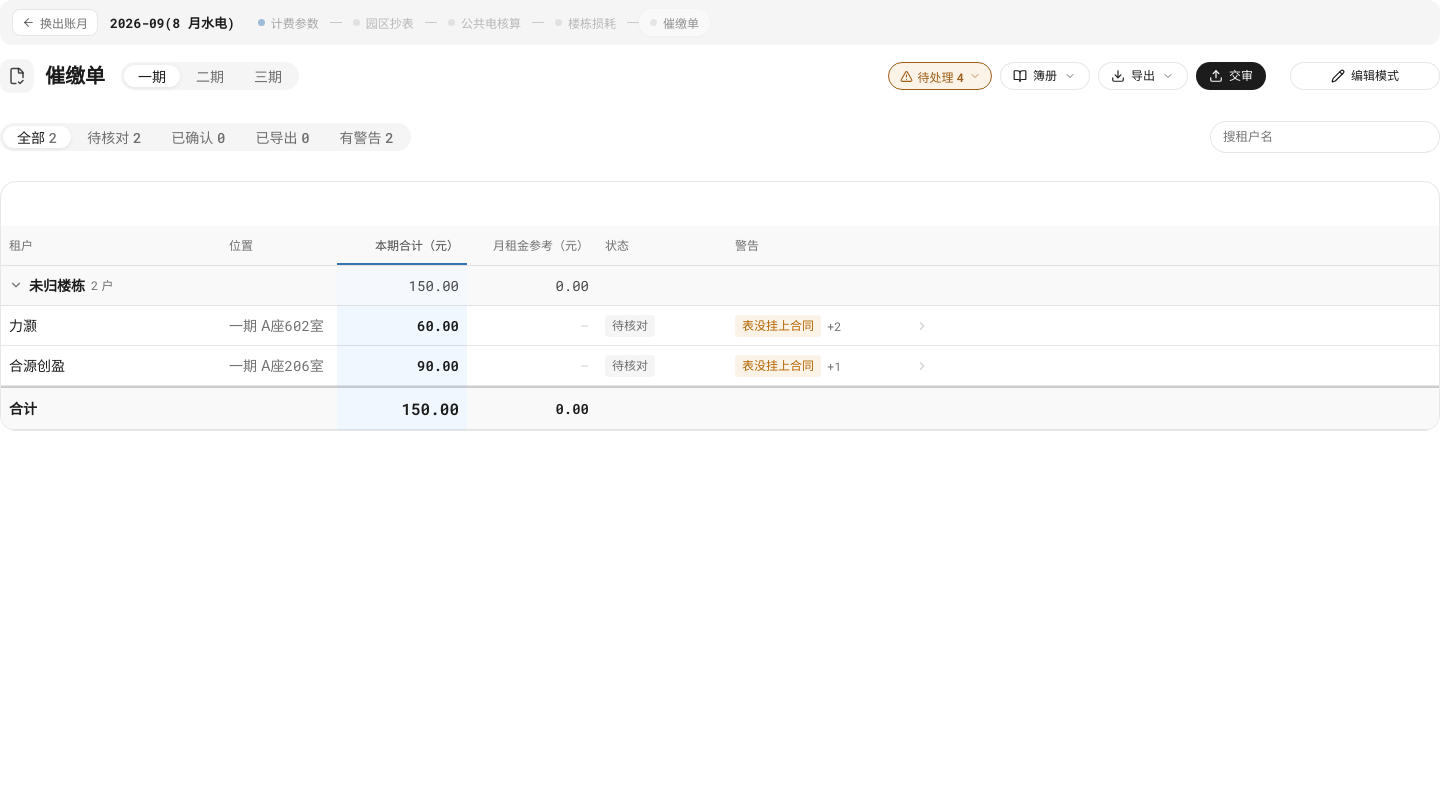
Test: 催缴单抽屉 · 01-C 徽标浮层:明细贴着徽标浮出,正文不动 › 下一户:浮层收起
Click the row "力灏 一期 A座602室 60.00 – 待核对 表没挂上合同 +2": (720,326) x1=1 y1=306 x2=1439 y2=346
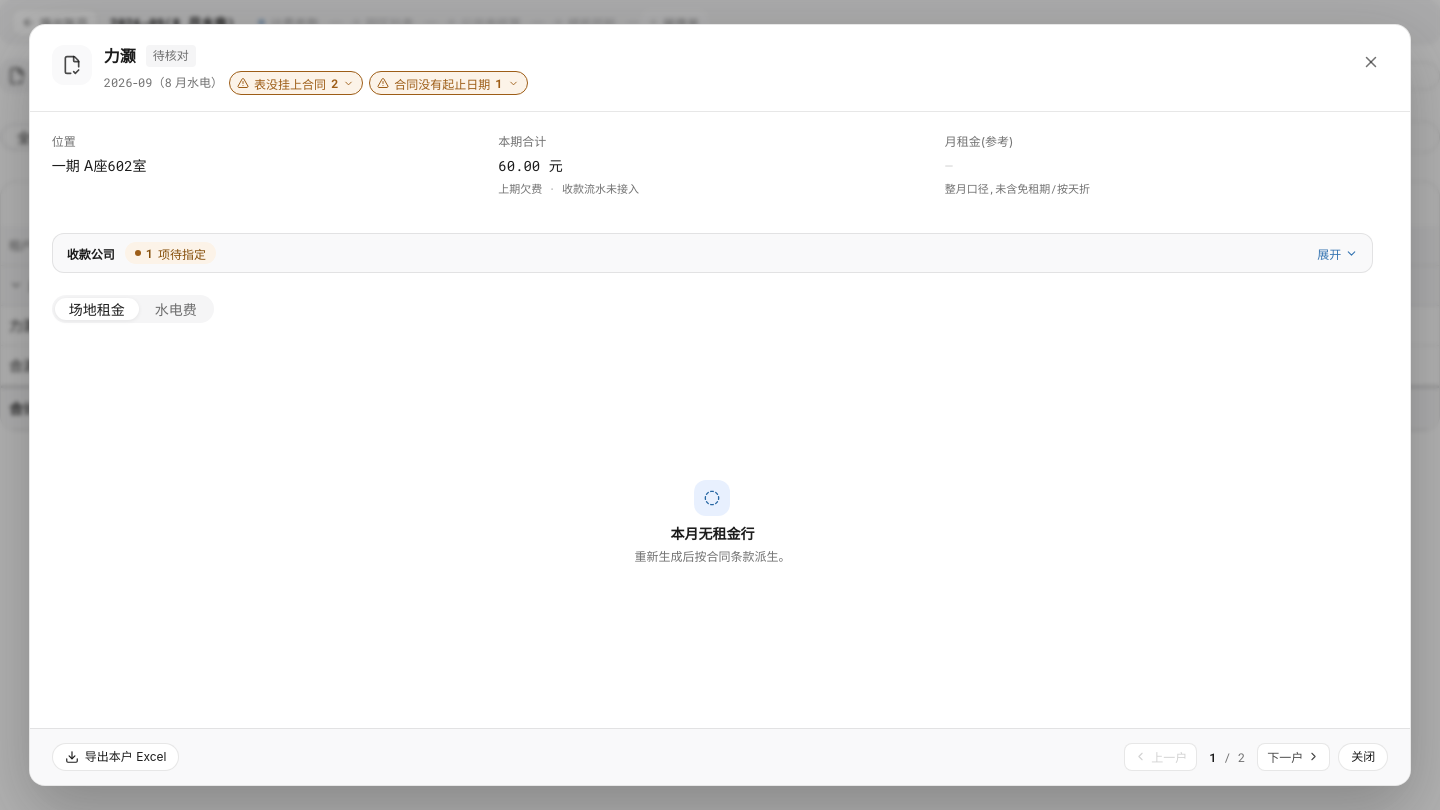
Click the button with class "bn-abadge" showing "表没挂上合同 2": (296,83) x1=229 y1=71 x2=363 y2=95
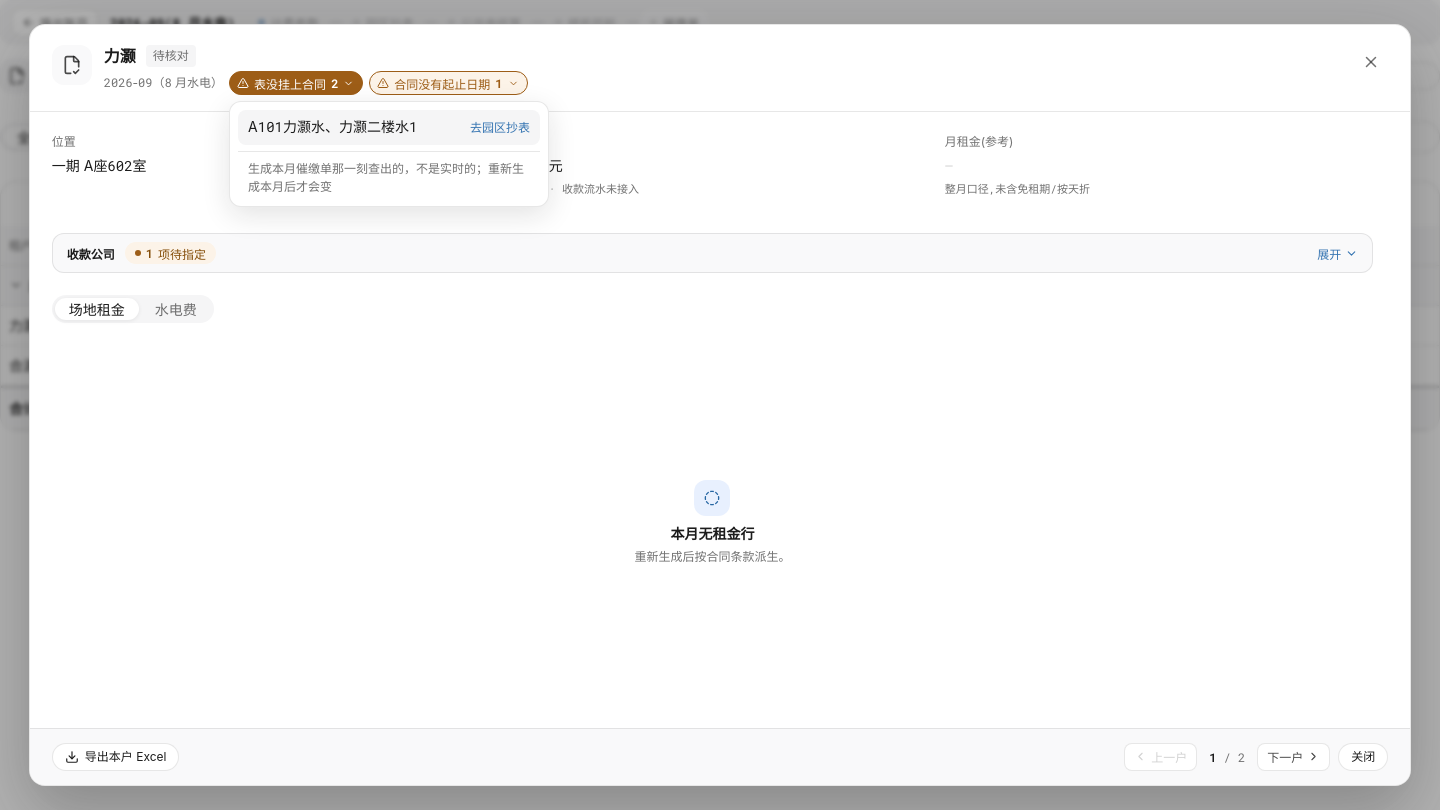
Check: the element with class "bn-apanel" is shown, box x1=238 y1=110 x2=540 y2=198
Click the button "下一户": (1294,757) x1=1257 y1=743 x2=1330 y2=771
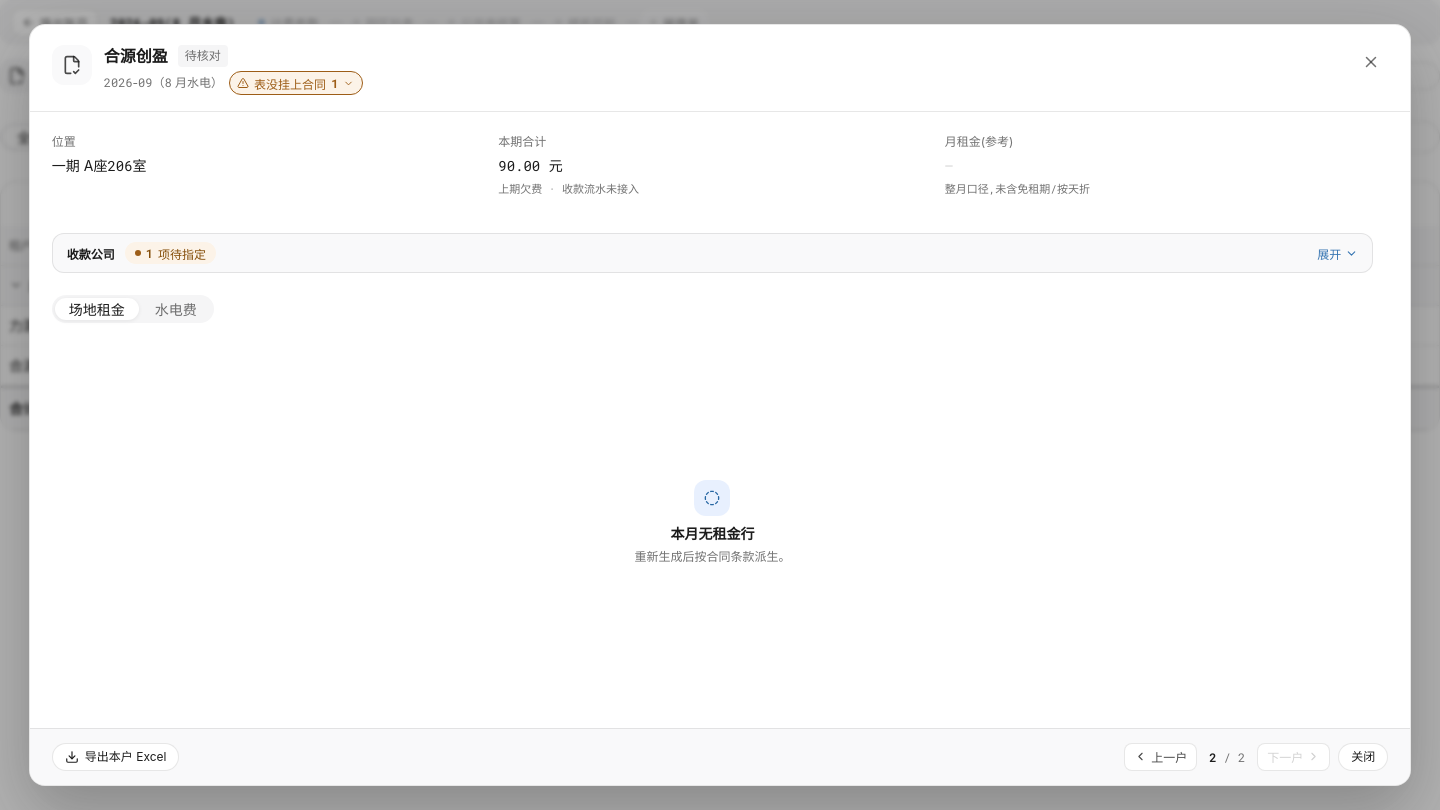
Check: the heading "合源创盈" is shown, box x1=104 y1=46 x2=168 y2=66
Check: the number of buttons with class "bn-abadge" is 1, box x1=229 y1=71 x2=363 y2=95
